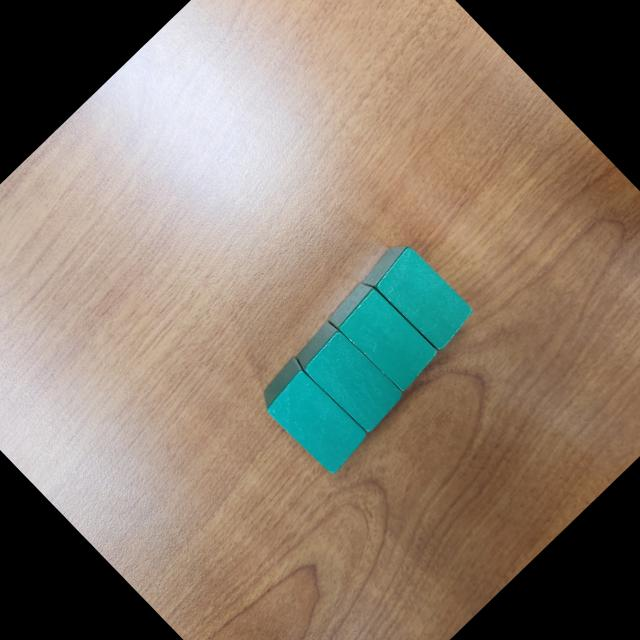green: (356, 235, 479, 359), (252, 354, 374, 478), (324, 275, 444, 396), (290, 316, 408, 435)
